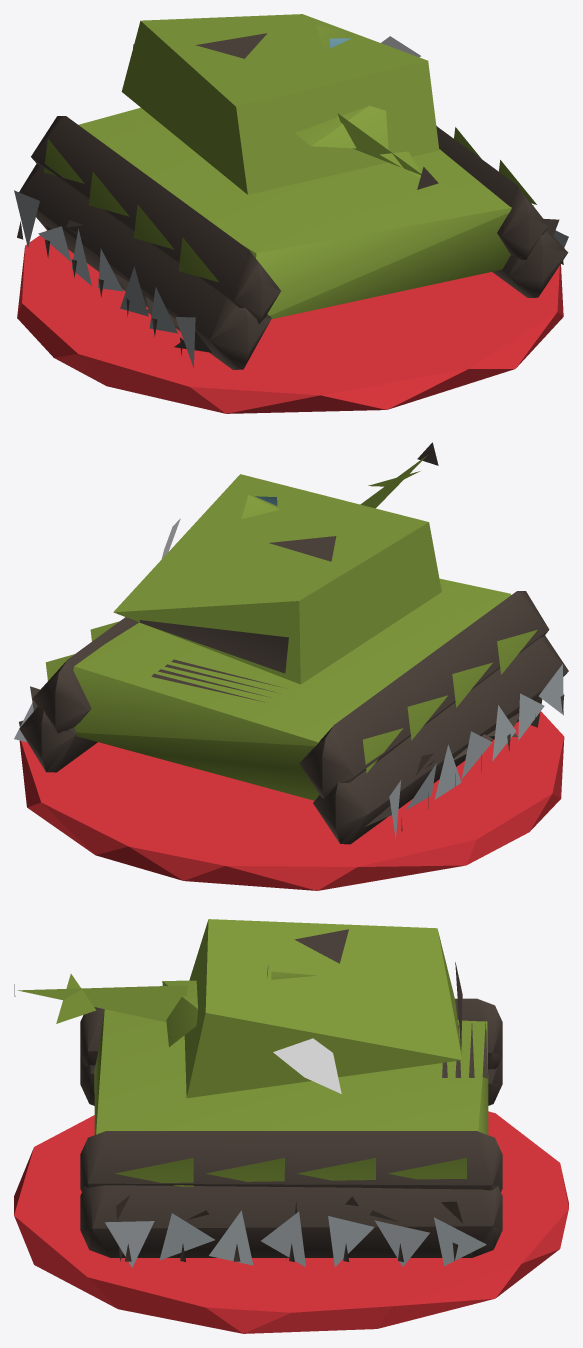
File: usa_tank_lod1.glb
The picture shows the model from 3 angles, top to bottom: view 1: azimuth 30°, elevation 25°; view 2: azimuth 150°, elevation 25°; view 3: azimuth 270°, elevation 25°; orthographic projection.
Visible parts, largest first — view 1: body_hull, base_pedestal; view 2: body_hull, base_pedestal; view 3: body_hull, base_pedestal.
Part boxes in pixels (<box>): body_hull: <box>14,14,568,369</box>; base_pedestal: <box>17,230,563,413</box>; body_hull: <box>14,442,568,844</box>; base_pedestal: <box>19,711,564,890</box>; body_hull: <box>14,919,502,1267</box>; base_pedestal: <box>14,1111,568,1333</box>.
Size of the model in its own units: 0.7791 by 0.4123 by 0.7771.
